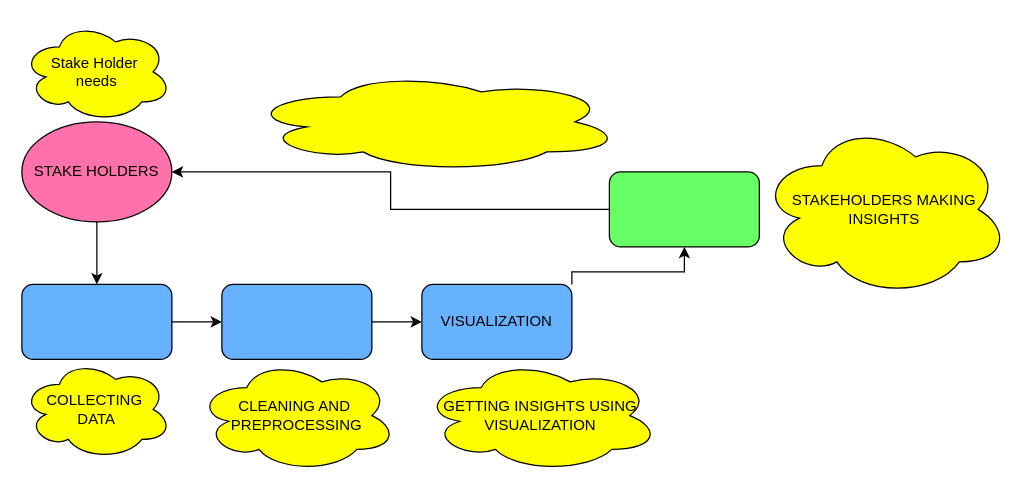
This 1031x494 diagram has some shape labels left out. The shapes that lost their labels are listed below. From the top down, each one's centre as x and y in pixels, then its label:
point 434,121: VALIDATION & FEEDBACK LOOP
point 683,209: DEPLOYEMENT
point 96,321: DATA ACQUISITION
point 296,321: DATA ANALYSIS
